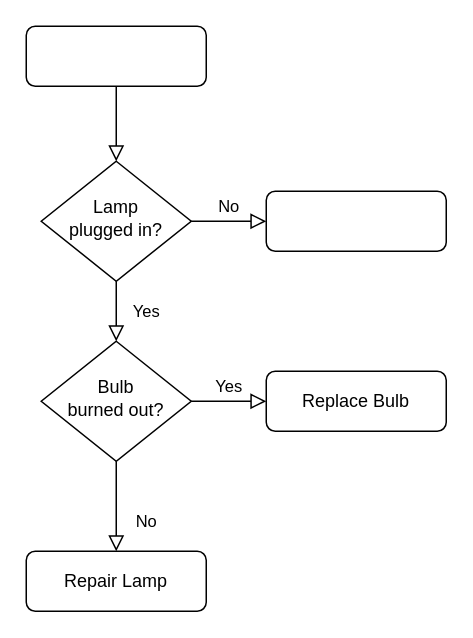
The diagram is 473 pixels wide and 638 high, and some of its shapes have lost their labels. Here are the shapes that lost their labels. From the top down, the centre of each, then its label:
At point 115,55: "index.html".
At point 355,220: "Plug in lamp".
